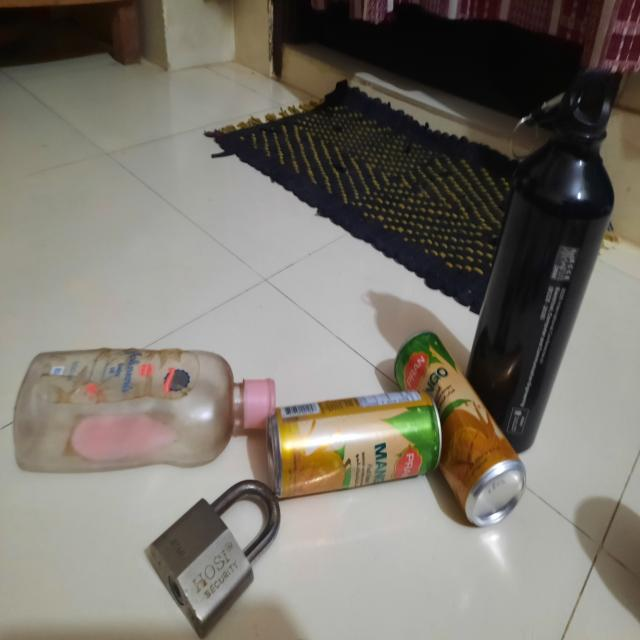Metal: (150, 473, 296, 622)
Plastics: (8, 336, 270, 471)
can: (286, 332, 520, 533), (483, 68, 614, 426)
